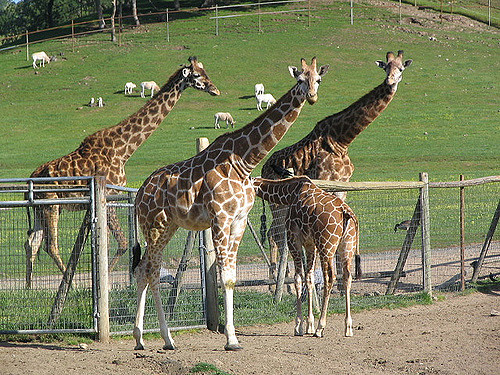giraffe: (117, 55, 331, 357), (24, 55, 228, 302), (262, 32, 426, 184), (237, 168, 364, 353)
